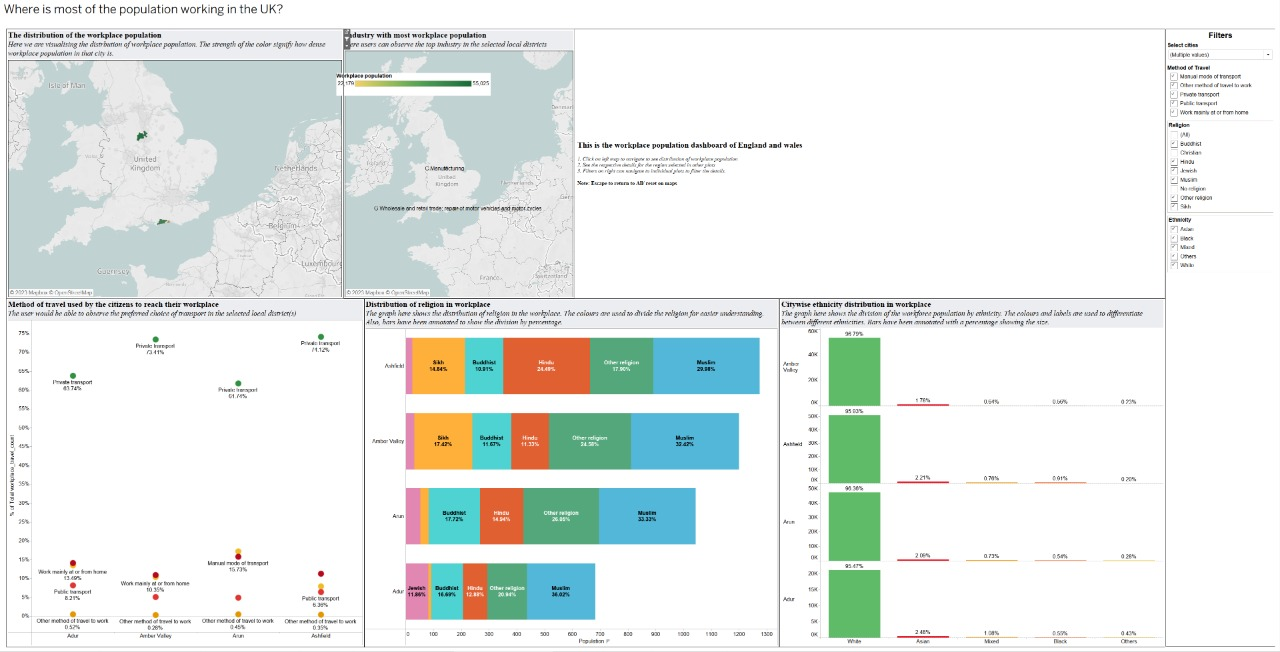

This screenshot's page, from the dashboard's own definition file:
{"tool":"tableau","page":{"name":"Workplace population dashboard","canvas":[1000,1000],"units":"permille","ordinal":1},"visuals":[{"type":"text","box":[0.9,2.1,999.1,27.6]},{"type":"worksheet","title":"Distribution of workplace population throughout England and Wales","mark":"Multipolygon","box":[5.1,47,286.6,412.4]},{"type":"worksheet","title":"Industry with most workplace population ","mark":"Multipolygon","box":[291.7,47,196.9,412.4]},{"type":"text","box":[488.7,47,421.5,412.4]},{"type":"text","box":[911.2,47,85,17.9]},{"type":"filter","title":"Distribution of workplace population throughout England and Wales","param":"[federated.0qaia8j1so4g2j18ytlmk1we9ii0].[none:geography:nk]","box":[911.2,64.9,85,62.8]},{"type":"legend","title":"Distribution of workplace population throughout England and Wales","param":"[federated.0qaia8j1so4g2j18ytlmk1we9ii0].[sum:Population: All usual residents ag","box":[262.8,113.7,120.5,35.1]},{"type":"filter","title":"Method of travel","param":"[federated.0qaia8j1so4g2j18ytlmk1we9ii0].[Pivot Field Names (Pivot2) - Split 1 -","box":[911.2,127.7,85,85.8]},{"type":"filter","title":"Distribution of workplace by religion","param":"[federated.0qaia8j1so4g2j18ytlmk1we9ii0].[none:Pivot Field Names - Split 1 - Spl","box":[911.2,213.5,85,145.1]},{"type":"filter","title":"Citywise ethnicity distribution in workplace","param":"[federated.0qaia8j1so4g2j18ytlmk1we9ii0].[Pivot Field Names (Pivot1) (group)]","box":[911.2,358.6,85,91.4]},{"type":"worksheet","title":"Method of travel","mark":"Circle","rows":["Pivot Field Values (Pivot2)"],"cols":["geography (workplace_method_of_trave.csv)"],"box":[5.1,459.7,279.6,534]},{"type":"worksheet","title":"Distribution of workplace by religion","mark":"Automatic","rows":["geography (workplace_religion.csv)"],"cols":["Pivot Field Values"],"box":[284.8,459.7,324.1,534]},{"type":"worksheet","title":"Citywise ethnicity distribution in workplace","mark":"Automatic","rows":["geography (workplace_ethnic_group.csv)","Pivot Field Values (Pivot1)"],"box":[609.5,459.7,300.7,534]}]}

Visuals, with their boxes on the dashboard's canvas, which has no fixed pixel size, in thousandths of its width and height (x1, y1, x2, y2). These are canvas units, not pixel positions in the 1280x652 screenshot, which may show the page scaled, cropped or inside an application window:
text: x1=1 y1=2 x2=1000 y2=30
"Distribution of workplace population throughout England and Wales" worksheet (Multipolygon marks): x1=5 y1=47 x2=292 y2=459
"Industry with most workplace population " worksheet (Multipolygon marks): x1=292 y1=47 x2=489 y2=459
text: x1=489 y1=47 x2=910 y2=459
text: x1=911 y1=47 x2=996 y2=65
"Distribution of workplace population throughout England and Wales" filter: x1=911 y1=65 x2=996 y2=128
"Distribution of workplace population throughout England and Wales" legend: x1=263 y1=114 x2=383 y2=149
"Method of travel" filter: x1=911 y1=128 x2=996 y2=214
"Distribution of workplace by religion" filter: x1=911 y1=214 x2=996 y2=359
"Citywise ethnicity distribution in workplace" filter: x1=911 y1=359 x2=996 y2=450
"Method of travel" worksheet (Circle marks): x1=5 y1=460 x2=285 y2=994
"Distribution of workplace by religion" worksheet: x1=285 y1=460 x2=609 y2=994
"Citywise ethnicity distribution in workplace" worksheet: x1=610 y1=460 x2=910 y2=994
